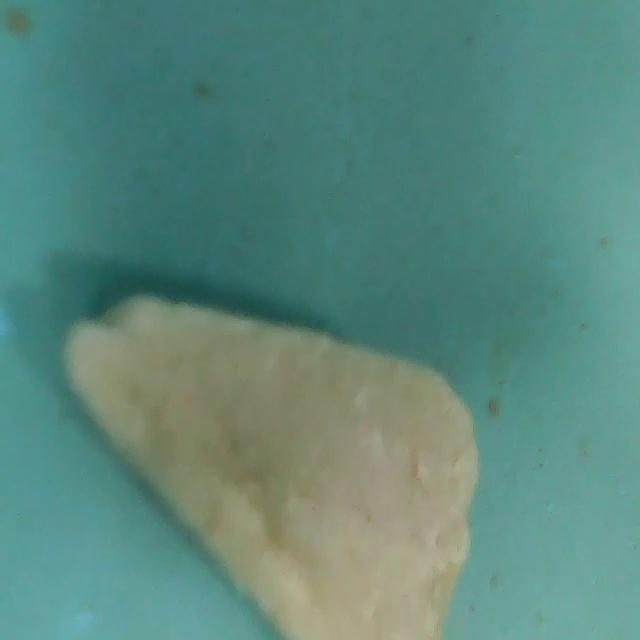rock: (61, 293, 489, 640)
